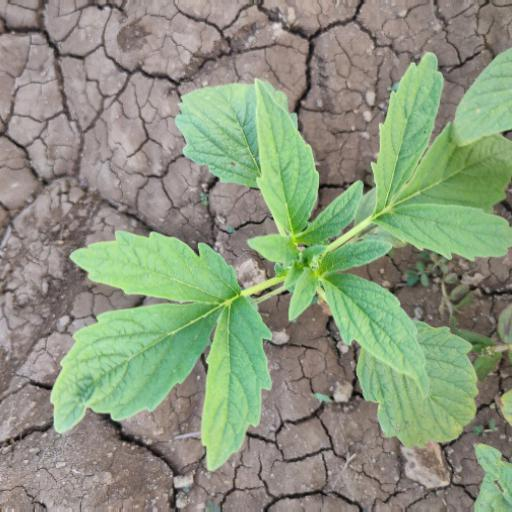crop: (56, 61, 512, 476)
